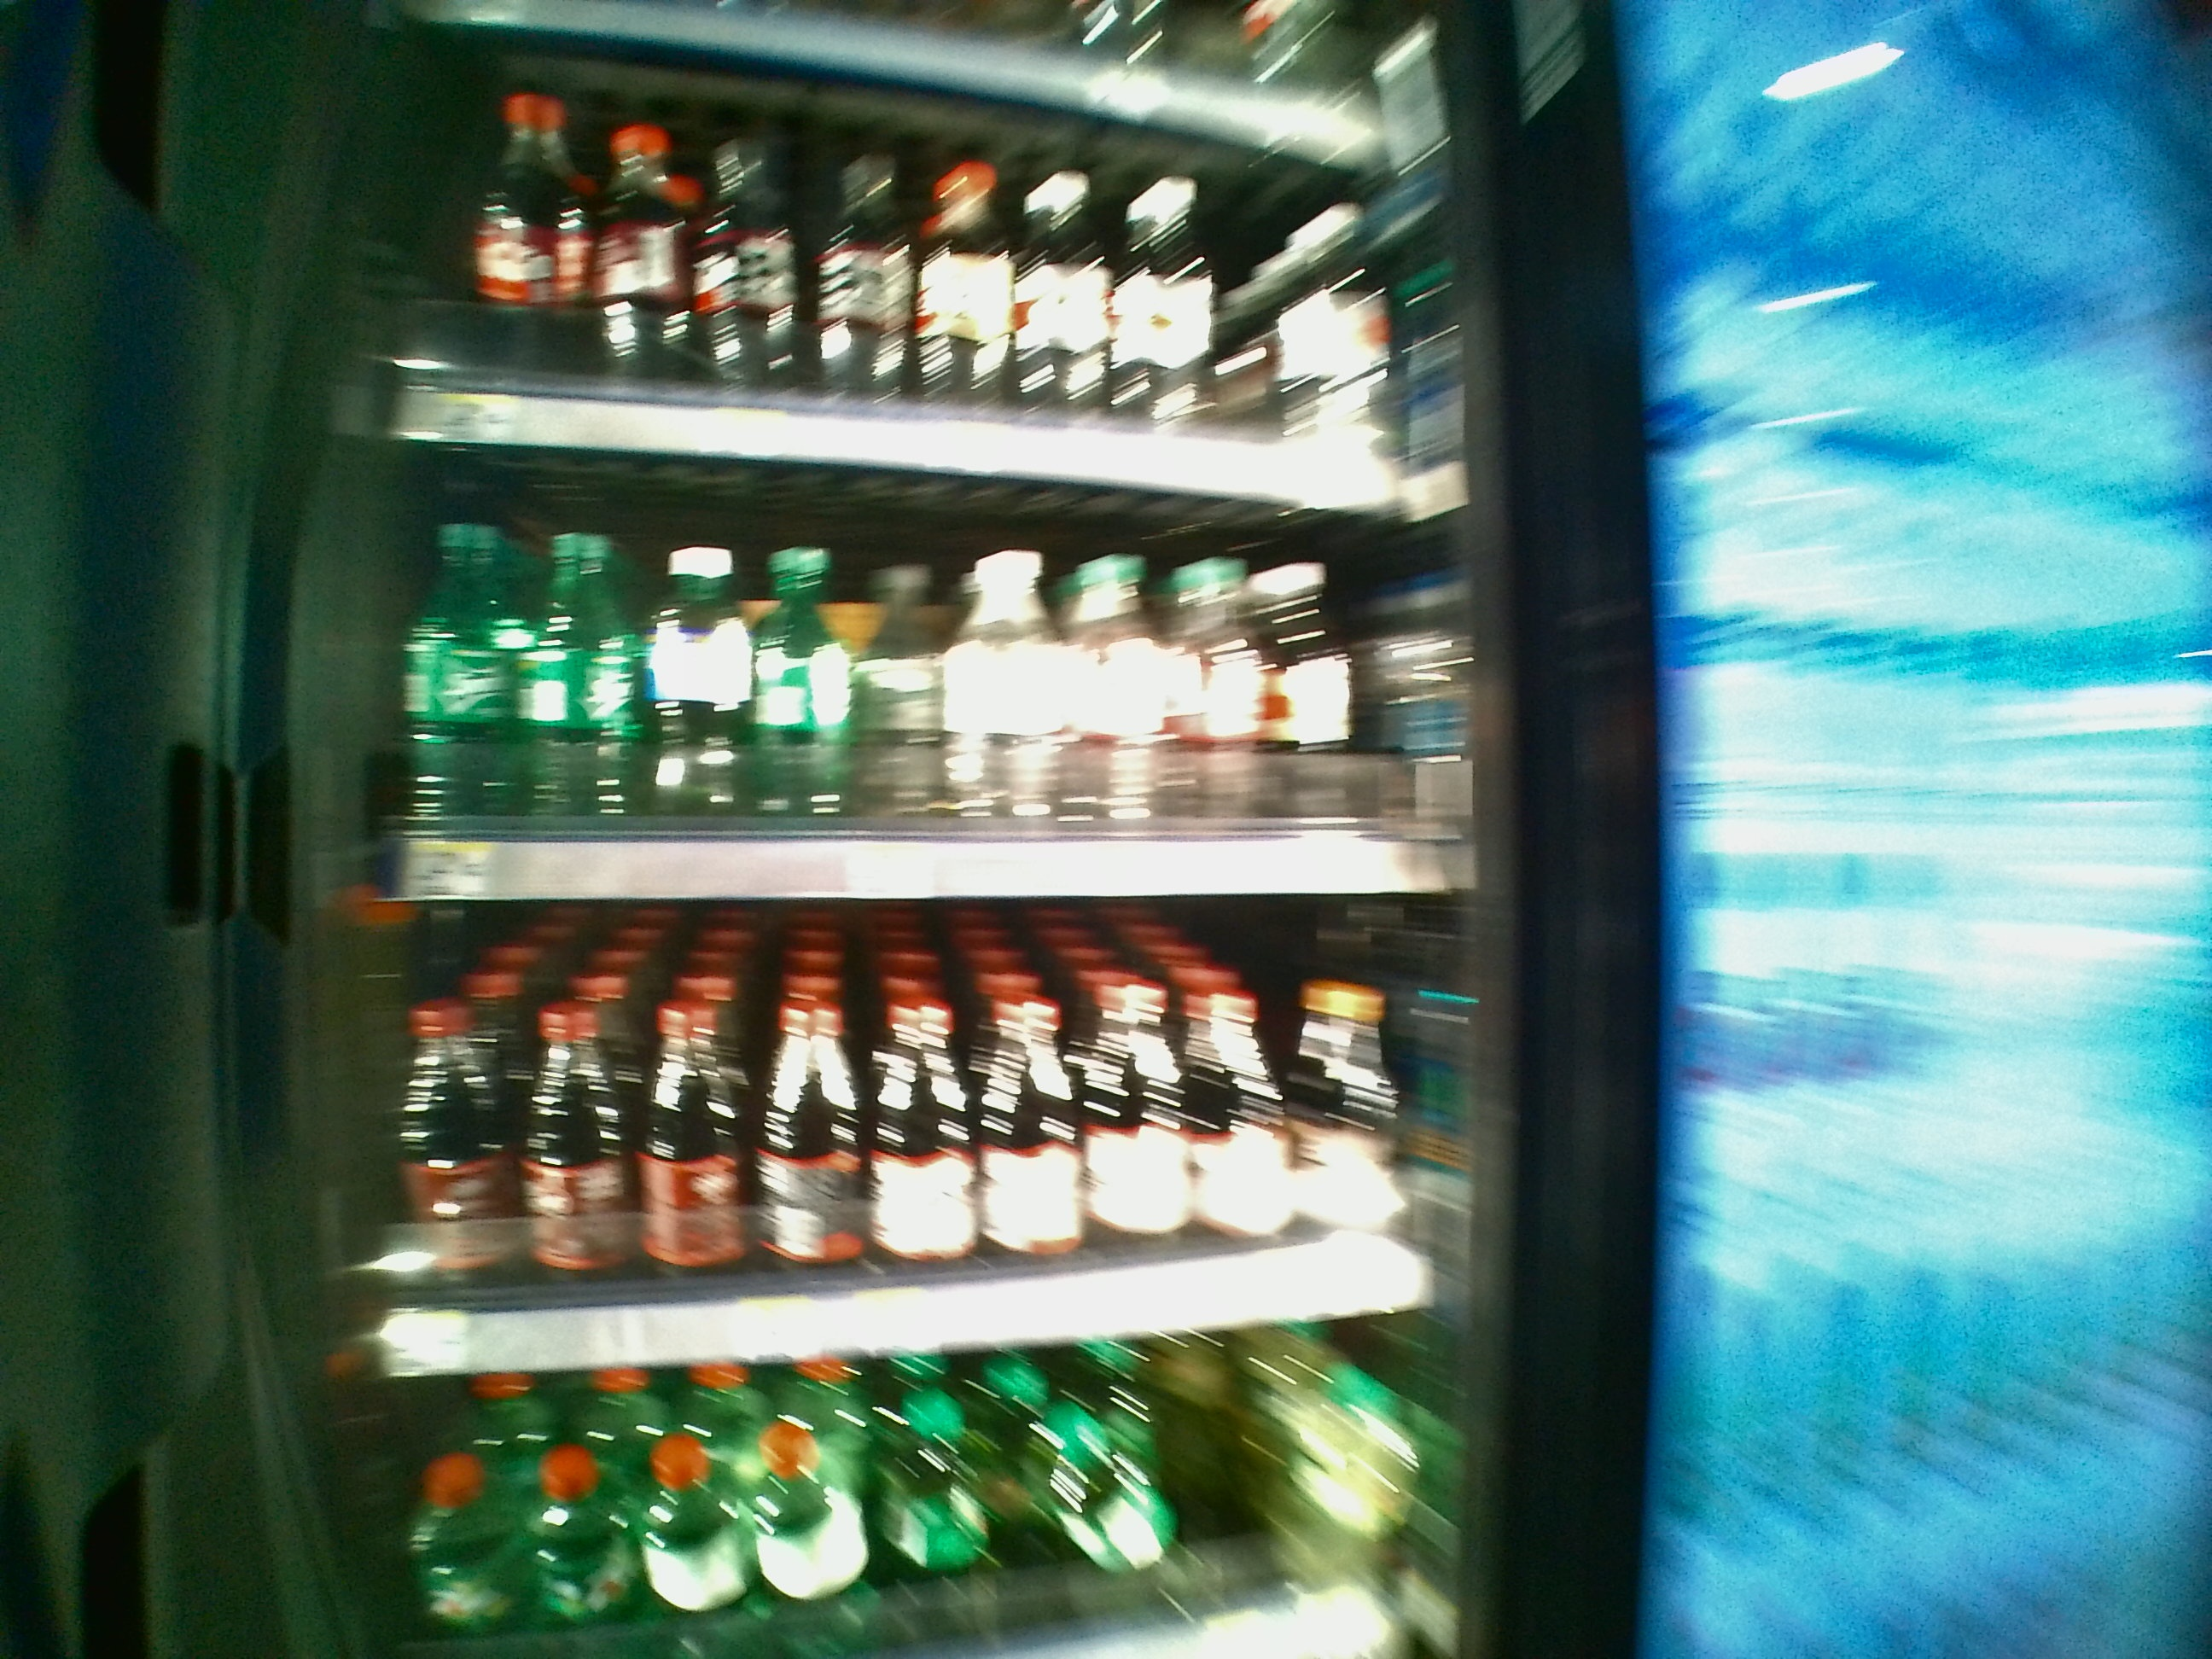shelf: (366, 904, 1508, 1382), (371, 436, 1508, 913)
